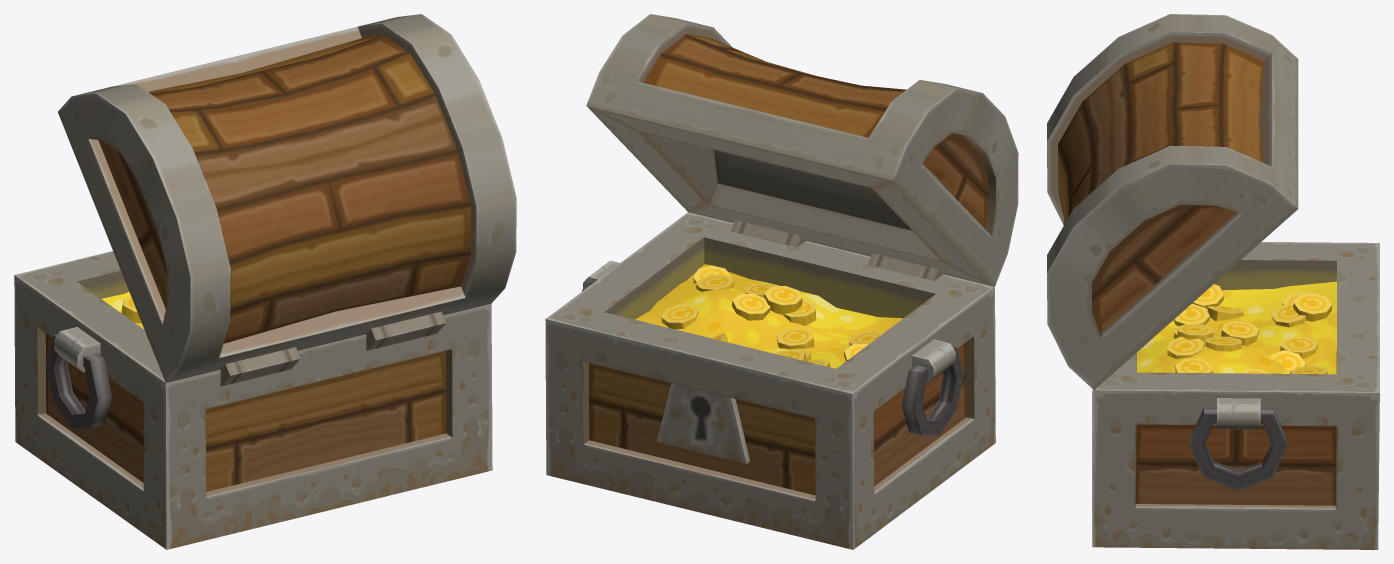
Rendered from treasure-chest.fbx.
3 views of the same model, side by side, from view 1: azimuth 30°, elevation 25°; view 2: azimuth 150°, elevation 25°; view 3: azimuth 270°, elevation 25° (orthographic). The views are drawn at different scales.
Parts seen in each view (by area): view 1: Treasure_Chest_Down; view 2: Treasure_Chest_Down; view 3: Treasure_Chest_Down.
Boxes of the visible parts, bbox=[...] form: Treasure_Chest_Down: bbox=[14, 14, 516, 549]; Treasure_Chest_Down: bbox=[545, 14, 1018, 549]; Treasure_Chest_Down: bbox=[1047, 14, 1379, 549].
Size of the model in its own units: 78.84 by 82.72 by 64.67.
1 material, 1 textured.
